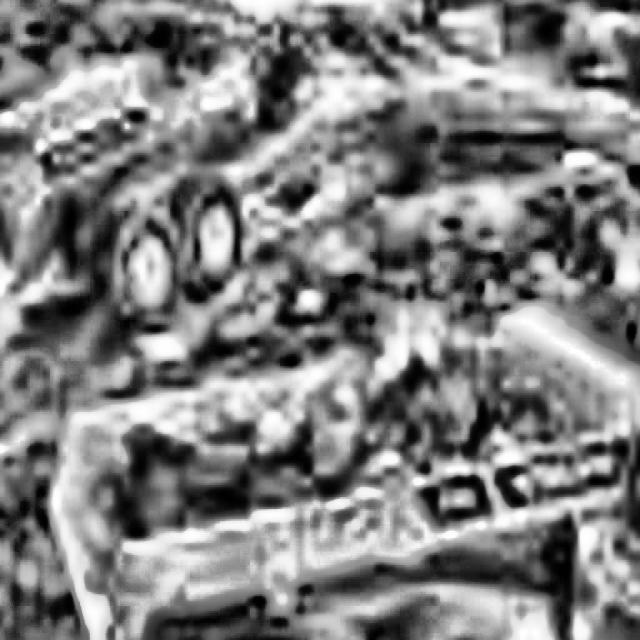dump_truck: (40, 238, 640, 640), (0, 102, 289, 443)
